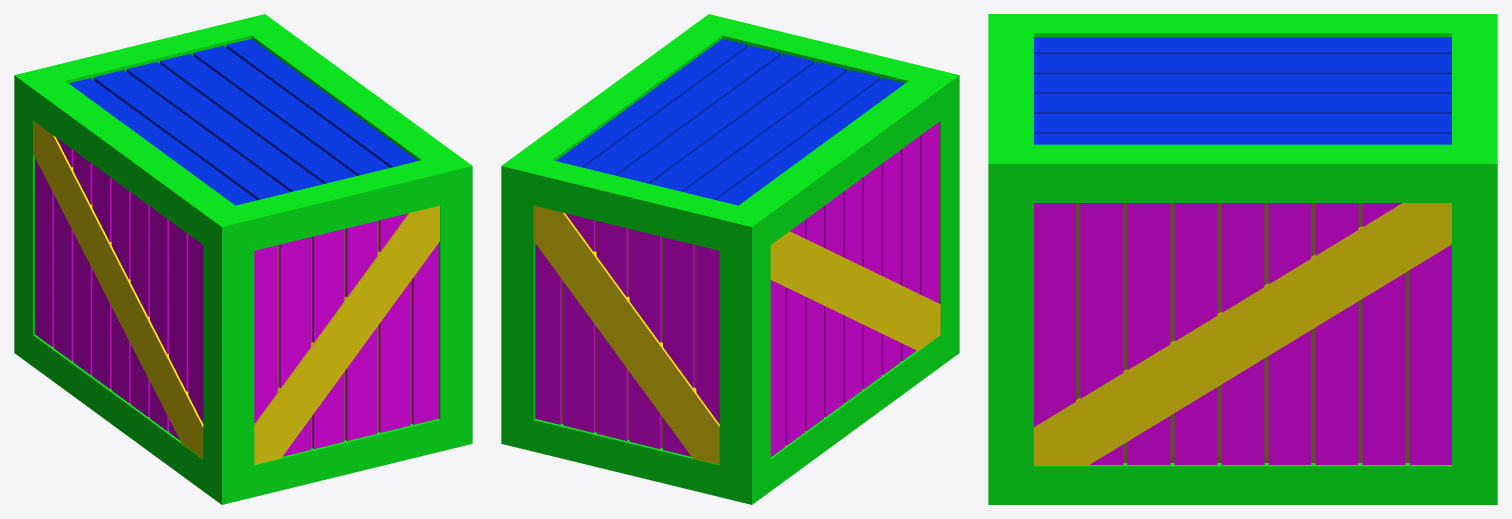
Rendered from crate.fbx.
3 views of the same model, side by side, from view 1: azimuth 30°, elevation 25°; view 2: azimuth 150°, elevation 25°; view 3: azimuth 270°, elevation 25° (orthographic). The views are drawn at different scales.
Visible parts, largest first — view 1: Cube.002, Cube.005, Cube.004, Cube.006, Cube.003, Cube.001, Cube; view 2: Cube.002, Cube.005, Cube.004, Cube.006, Cube.003, Cube.001, Cube; view 3: Cube.002, Cube.006, Cube.005, Cube.001, Cube.
Part boxes in pixels (x1=…): Cube.002: x1=14, y1=14, x2=472, y2=504; Cube.005: x1=69, y1=39, x2=417, y2=205; Cube.004: x1=254, y1=213, x2=438, y2=456; Cube.006: x1=35, y1=137, x2=203, y2=439; Cube.003: x1=254, y1=205, x2=439, y2=464; Cube.001: x1=33, y1=121, x2=203, y2=458; Cube: x1=277, y1=220, x2=411, y2=448; Cube.002: x1=501, y1=14, x2=959, y2=504; Cube.005: x1=556, y1=39, x2=904, y2=205; Cube.004: x1=535, y1=213, x2=719, y2=456; Cube.006: x1=770, y1=122, x2=938, y2=456; Cube.003: x1=534, y1=205, x2=719, y2=464; Cube.001: x1=770, y1=231, x2=940, y2=350; Cube: x1=562, y1=220, x2=696, y2=448; Cube.002: x1=988, y1=14, x2=1497, y2=504; Cube.006: x1=1034, y1=203, x2=1451, y2=464; Cube.005: x1=1034, y1=37, x2=1451, y2=144; Cube.001: x1=1034, y1=203, x2=1451, y2=465; Cube: x1=1076, y1=203, x2=1409, y2=462.
Bounding box in the file's own units: 218 × 231 × 313.
